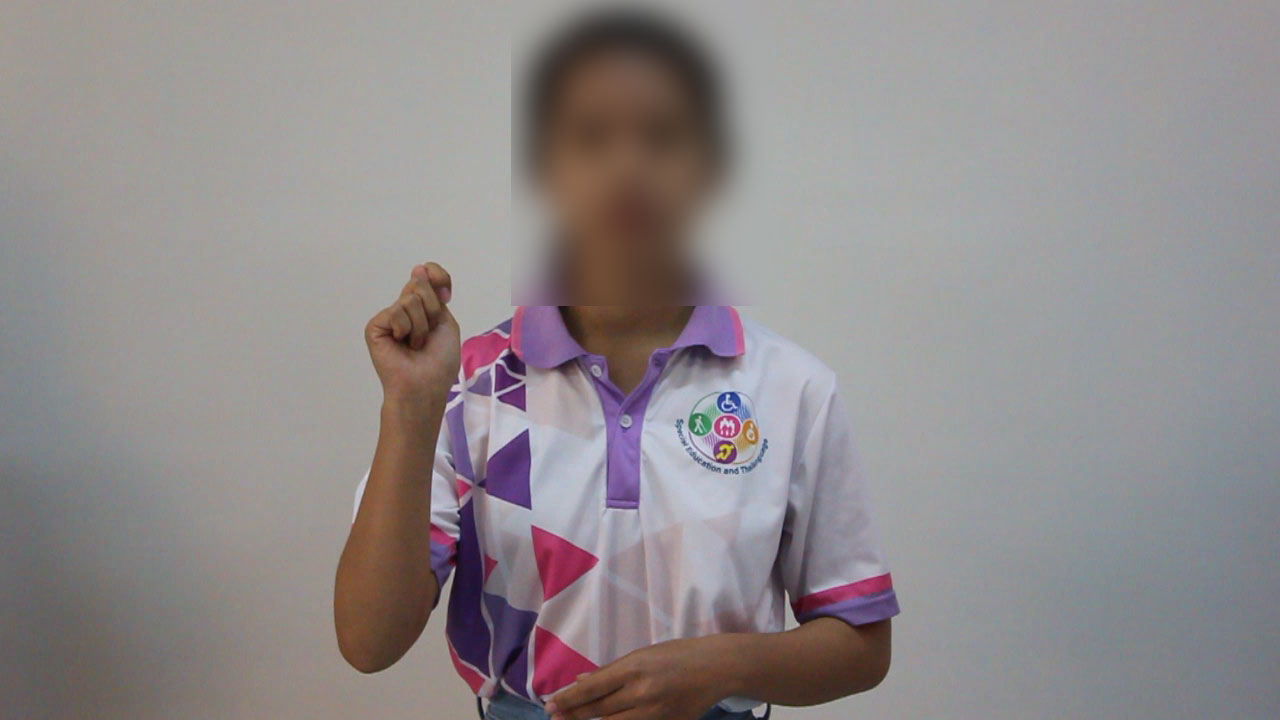tor: (349, 248, 494, 435)
